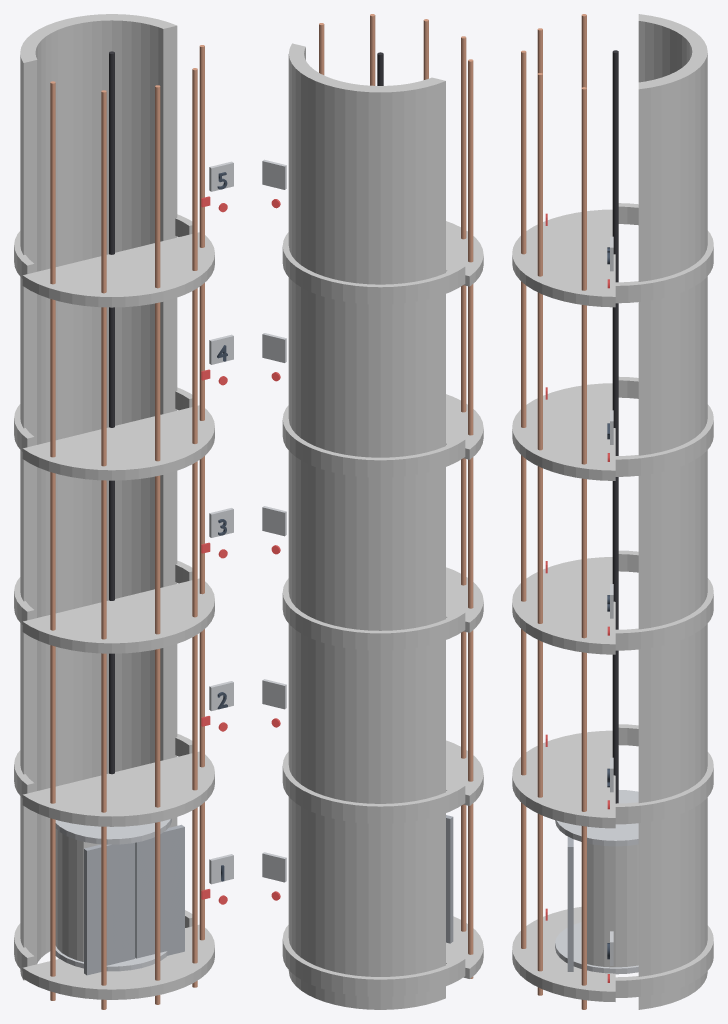
Rendered from elevator-shaft.glb.
3 views of the same model, side by side, from view 1: azimuth 30°, elevation 25°; view 2: azimuth 150°, elevation 25°; view 3: azimuth 270°, elevation 25° (orthographic).
Visible parts, largest first — view 1: ShaftTube, FloorSlab_4, FloorSlab_3, FloorSlab_2, FloorSlab_5, FloorSlab_1, DoorLeftLeaf, DoorRightLeaf, Mullion_2, Mullion_3, Mullion_1, Mullion_4 (+15 smaller); view 2: ShaftTube, Mullion_1, Mullion_2, FrameRing_4, FrameRing_3, FrameRing_2, FrameRing_5, FrameRing_1, FloorSlab_5, FloorSlab_2, FloorSlab_4, FloorSlab_3 (+7 smaller); view 3: ShaftTube, FloorSlab_2, FloorSlab_4, FloorSlab_5, FloorSlab_3, CarBody, Mullion_5, Mullion_4, Mullion_3, FloorSlab_1, HoistCable, FrameRing_3 (+7 smaller).
Boxes of the visible parts, left/top/right/bottom form: ShaftTube: left=20, top=14, right=177, bottom=980; FloorSlab_4: left=22, top=405, right=214, bottom=480; FloorSlab_3: left=22, top=578, right=214, bottom=653; FloorSlab_2: left=22, top=751, right=214, bottom=826; FloorSlab_5: left=22, top=232, right=214, bottom=307; FloorSlab_1: left=22, top=924, right=214, bottom=999; DoorLeftLeaf: left=84, top=843, right=135, bottom=975; DoorRightLeaf: left=135, top=824, right=184, bottom=958; Mullion_2: left=101, top=90, right=106, bottom=1009; Mullion_3: left=155, top=85, right=160, bottom=1004; Mullion_1: left=50, top=81, right=55, bottom=1000; Mullion_4: left=192, top=68, right=197, bottom=987; ShaftTube: left=288, top=43, right=445, bottom=1009; Mullion_1: left=468, top=59, right=473, bottom=978; Mullion_2: left=461, top=36, right=466, bottom=931; FrameRing_4: left=282, top=405, right=465, bottom=477; FrameRing_3: left=282, top=578, right=465, bottom=650; FrameRing_2: left=282, top=751, right=465, bottom=823; FrameRing_5: left=282, top=232, right=465, bottom=304; FrameRing_1: left=282, top=925, right=465, bottom=996; FloorSlab_5: left=446, top=221, right=483, bottom=286; FloorSlab_2: left=446, top=740, right=483, bottom=805; FloorSlab_4: left=446, top=394, right=483, bottom=459; FloorSlab_3: left=446, top=567, right=483, bottom=632; ShaftTube: left=638, top=14, right=707, bottom=1009; FloorSlab_2: left=512, top=730, right=615, bottom=828; FloorSlab_4: left=512, top=383, right=615, bottom=480; FloorSlab_5: left=512, top=209, right=615, bottom=307; FloorSlab_3: left=512, top=557, right=615, bottom=654; CarBody: left=587, top=843, right=638, bottom=967; Mullion_5: left=581, top=87, right=586, bottom=1009; Mullion_4: left=537, top=73, right=542, bottom=995; Mullion_3: left=521, top=50, right=526, bottom=948; FloorSlab_1: left=512, top=907, right=615, bottom=1001; HoistCable: left=612, top=50, right=618, bottom=803; FrameRing_3: left=615, top=550, right=713, bottom=650.
Bounding box in the file's own units: 3.15 × 13.25 × 2.63.
